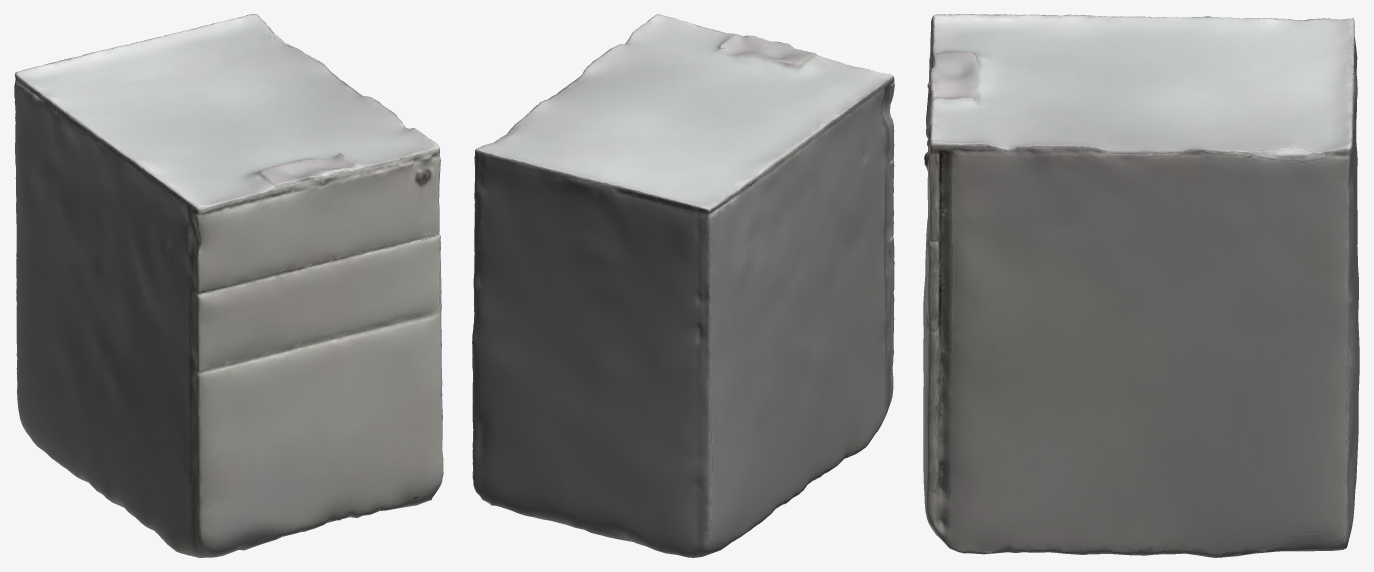
The picture shows the model from 3 angles, left to right: view 1: azimuth 30°, elevation 25°; view 2: azimuth 150°, elevation 25°; view 3: azimuth 270°, elevation 25°; orthographic projection. The views are drawn at different scales.
Bounding box in the file's own units: 0.4013 × 0.578 × 0.5339.
1 material, 1 textured.
